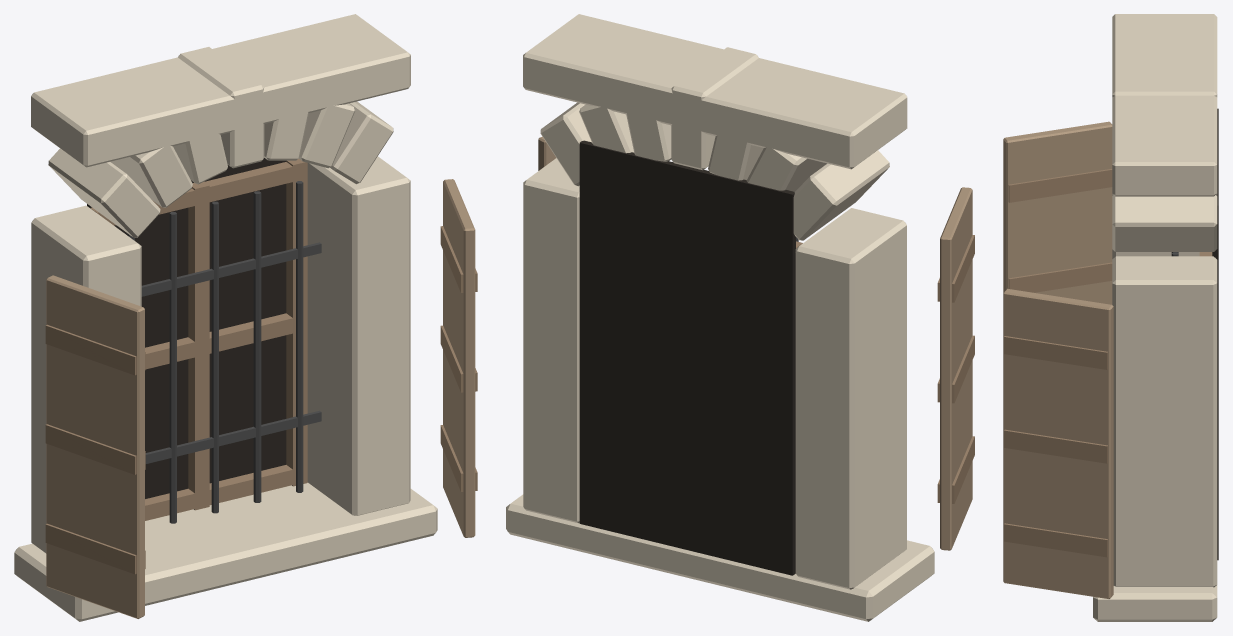
Rendered from pencere_kemerli_kepenkli.glb.
3 views of the same model, side by side, from view 1: azimuth 30°, elevation 25°; view 2: azimuth 150°, elevation 25°; view 3: azimuth 270°, elevation 25° (orthographic). The views are drawn at different scales.
Parts seen in each view (by area): view 1: pencere_kemerli_kepenkli; view 2: pencere_kemerli_kepenkli; view 3: pencere_kemerli_kepenkli.
Part boxes in pixels (x1,y1,x2,y2): pencere_kemerli_kepenkli: (14,14,477,621); pencere_kemerli_kepenkli: (506,14,974,621); pencere_kemerli_kepenkli: (1003,14,1218,621).
Bounding box in the file's own units: 1.41 × 1.58 × 0.6776.
